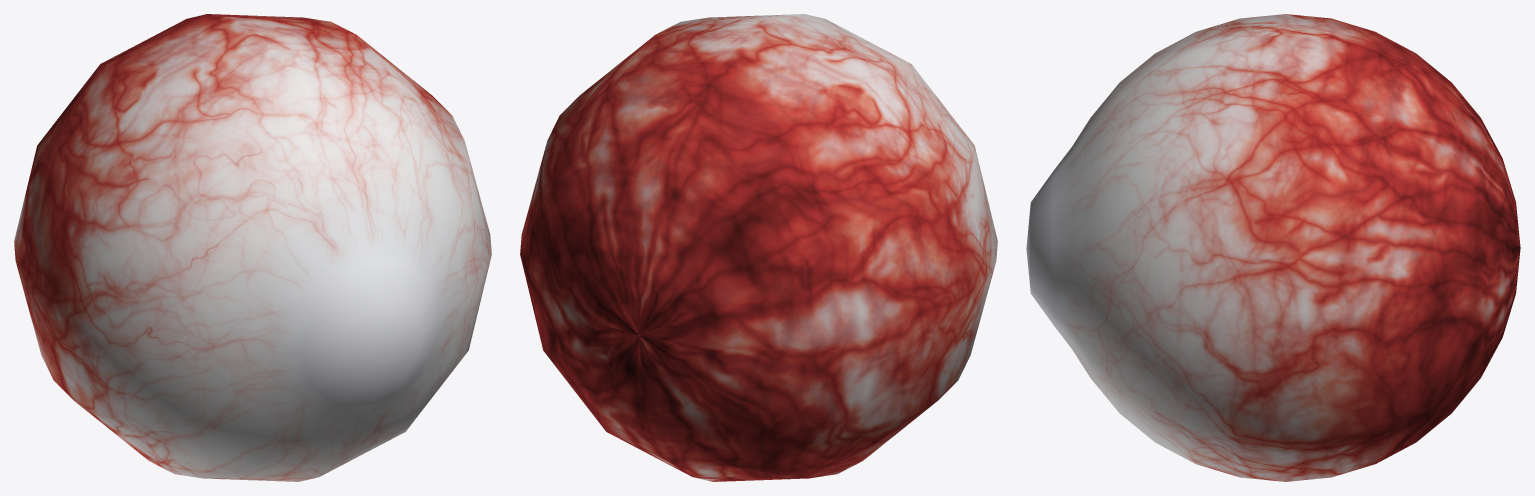
The model's file is eye.glb.
3 views of the same model, side by side, from view 1: azimuth 30°, elevation 25°; view 2: azimuth 150°, elevation 25°; view 3: azimuth 270°, elevation 25° (orthographic).
Visible parts, largest first — view 1: Eye R; view 2: Eye R; view 3: Eye R.
Boxes of the visible parts, left/top/right/bottom form: Eye R: left=14, top=14, right=491, bottom=481; Eye R: left=520, top=14, right=997, bottom=481; Eye R: left=1026, top=14, right=1520, bottom=481.
Bounding box in the file's own units: 0.3912 × 0.3912 × 0.4115.
2 materials, 2 textured.
